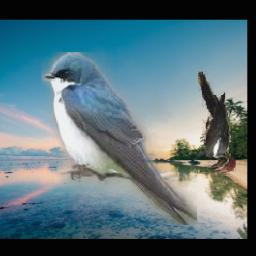Swallow: (43, 52, 198, 225)
Woodpecker: (199, 71, 237, 172)
